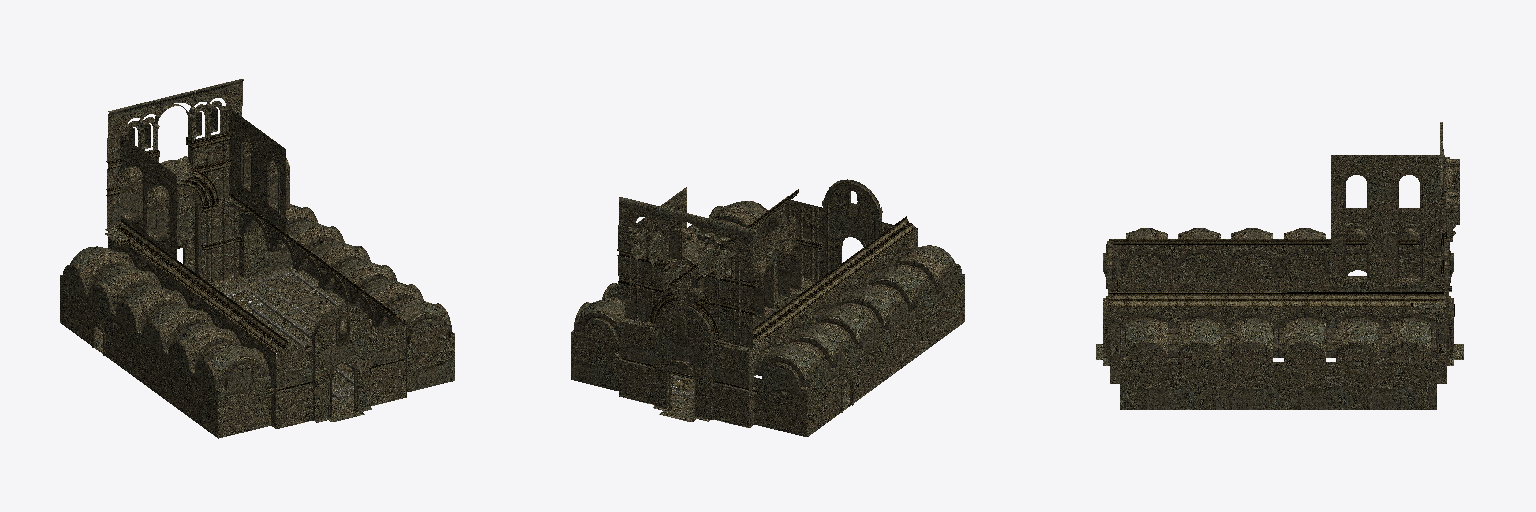
3 renders of one model, left to right at view 1: azimuth 30°, elevation 25°; view 2: azimuth 150°, elevation 25°; view 3: azimuth 270°, elevation 25°, orthographic.
Parts seen in each view (by area): view 1: mesh12, mesh4, mesh11, mesh13, mesh14, mesh7, mesh8; view 2: mesh12, mesh4, mesh11, mesh14; view 3: mesh12, mesh4, mesh11, mesh8.
Boxes of the visible parts, x1,y1,x2,y2 form: mesh12: [60, 79, 454, 438]; mesh4: [70, 137, 451, 420]; mesh11: [106, 132, 408, 393]; mesh13: [96, 274, 353, 394]; mesh14: [95, 267, 406, 428]; mesh7: [96, 271, 353, 398]; mesh8: [96, 211, 408, 421]; mesh12: [571, 179, 964, 436]; mesh4: [574, 180, 954, 419]; mesh11: [616, 189, 917, 391]; mesh14: [619, 268, 914, 427]; mesh12: [1103, 122, 1459, 409]; mesh4: [1106, 172, 1450, 365]; mesh11: [1105, 188, 1454, 350]; mesh8: [1096, 245, 1463, 359].
Bounding box in the file's own units: 23.48 × 19.07 × 31.42.
Materials: 17 (11 with a texture image).